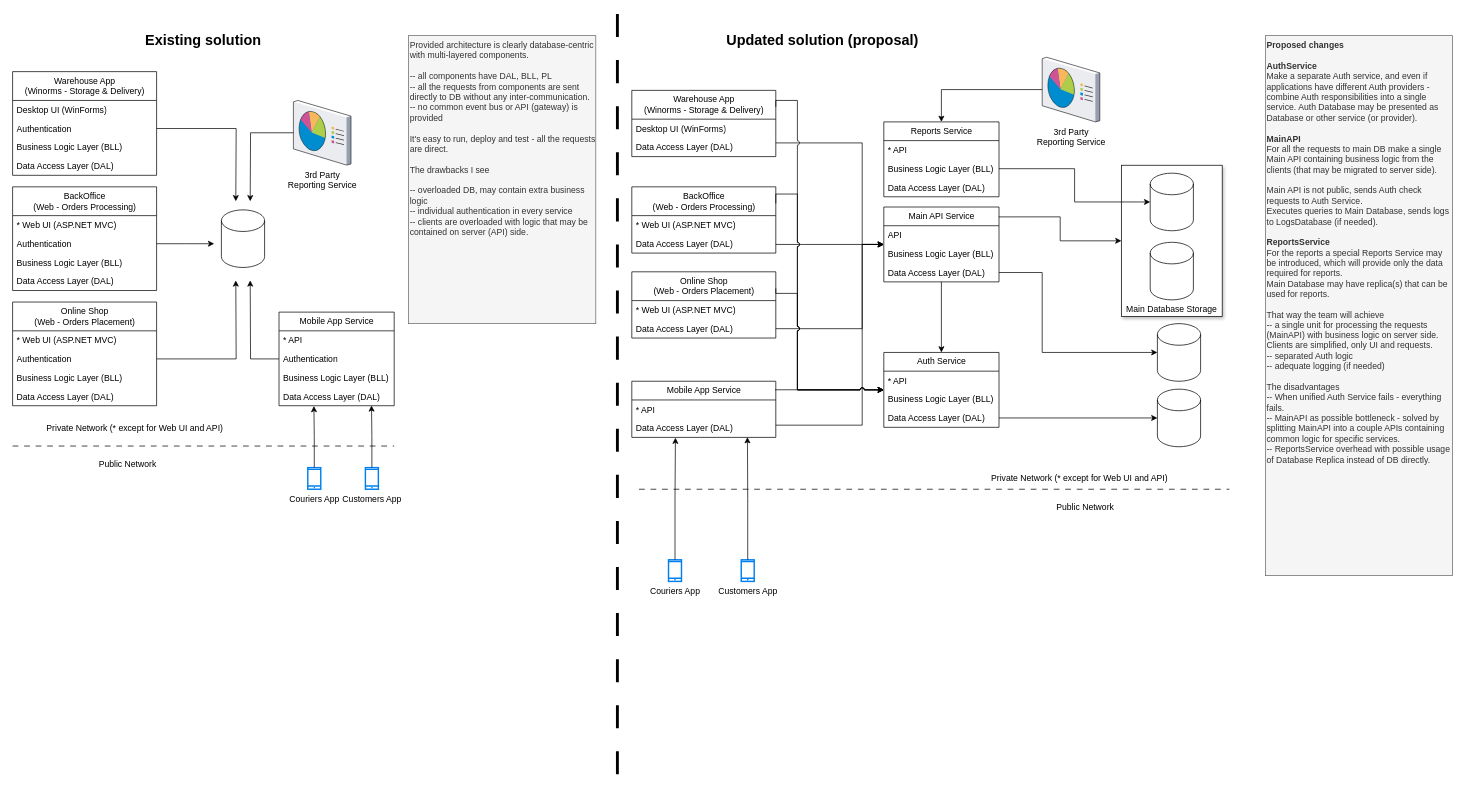
This 1465x806 diagram has some shape labels left out. The shapes that lost their labels are listed below. From the top down, each one's centre as x and y in pixels, then its label:
the point at 1171,201: Database Replica
the point at 243,238: Database
the point at 1171,271: Main Database
the point at 1179,352: Logs Database
the point at 1179,417: Auth Database
